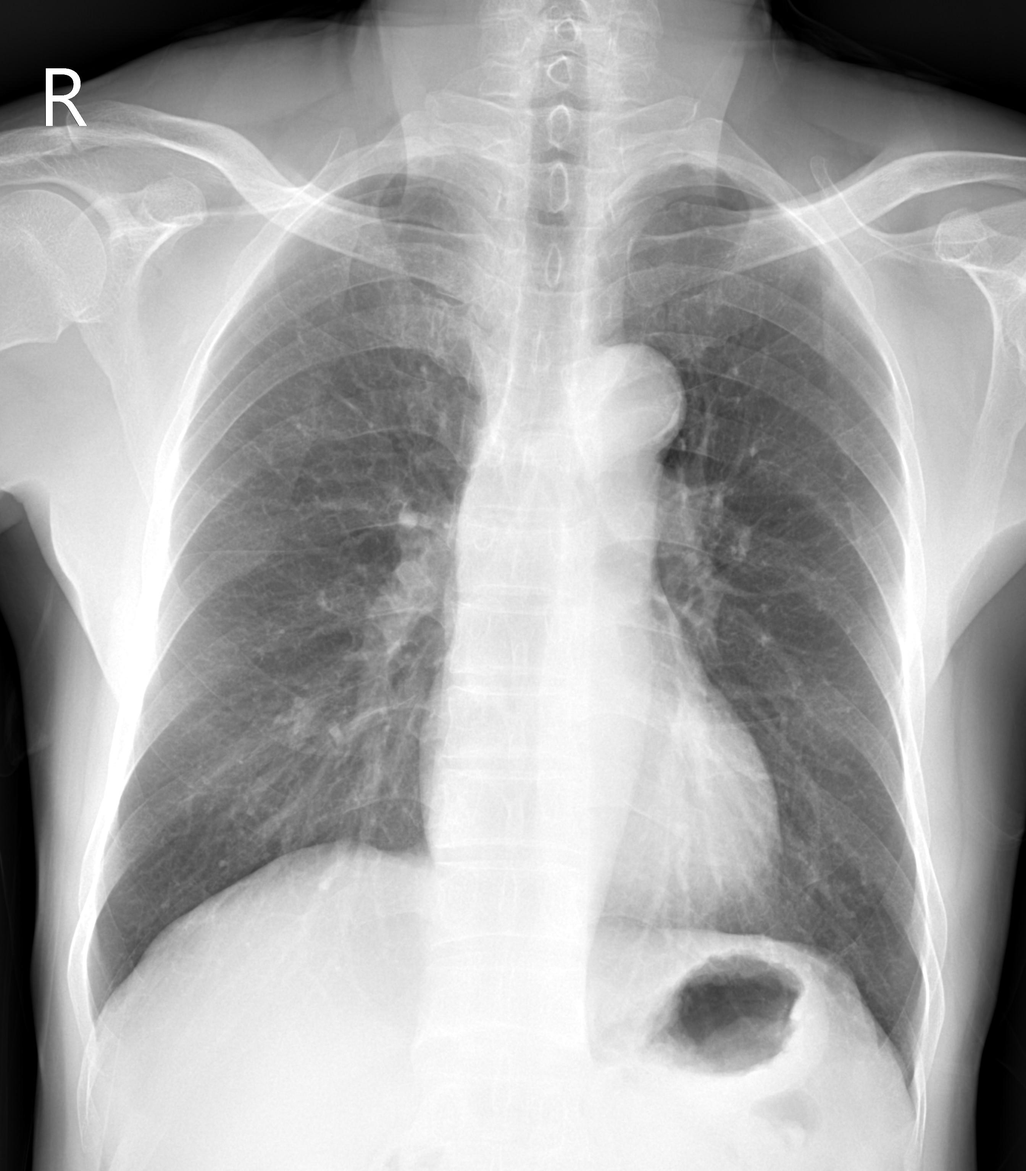Aortic enlargement: (564, 340, 687, 458)
Pleural thickening: (607, 185, 770, 218)
